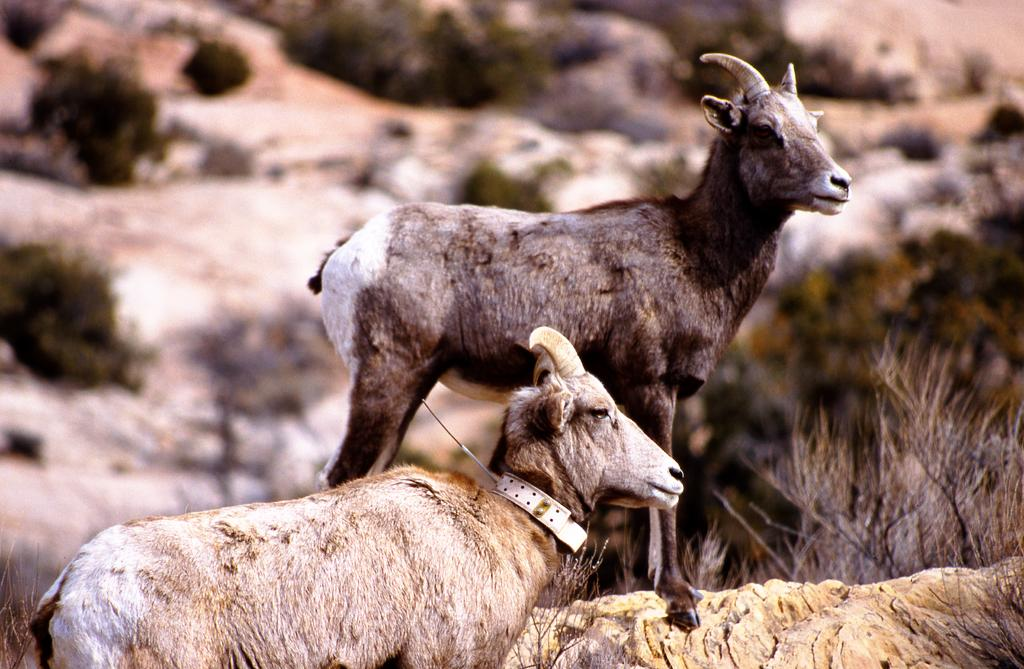Sheep: (302, 50, 851, 632), (27, 322, 689, 668)
